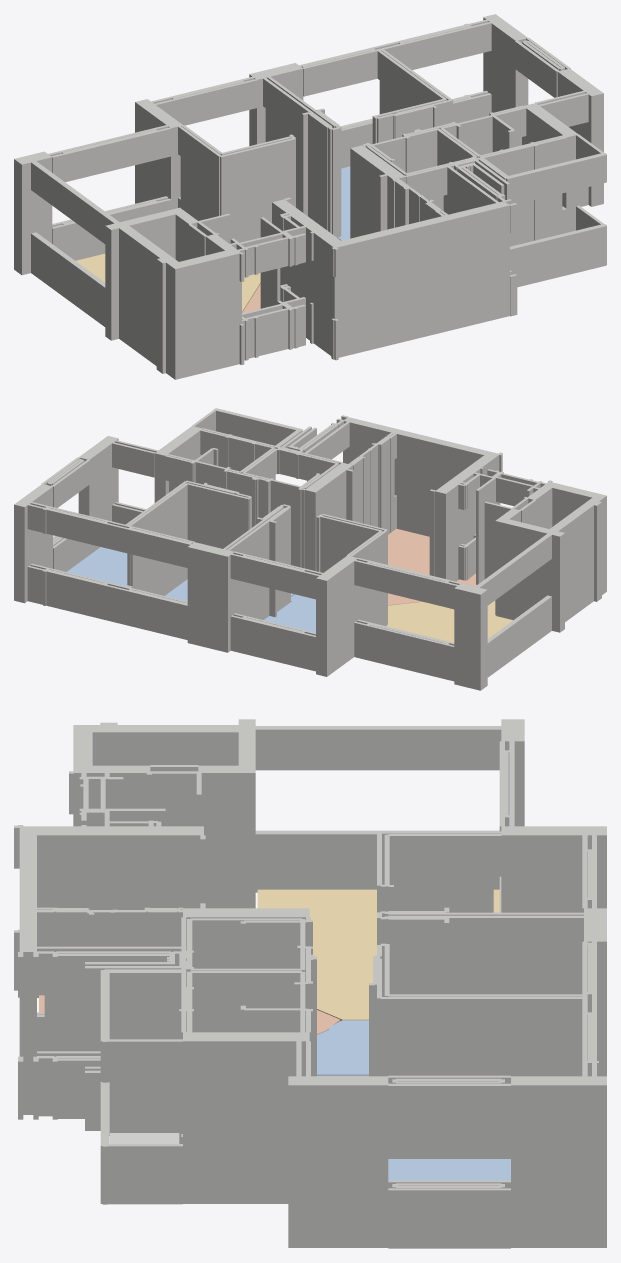
3 views of the same model, one above another, from view 1: azimuth 30°, elevation 25°; view 2: azimuth 150°, elevation 25°; view 3: azimuth 270°, elevation 25° (orthographic). The views are drawn at different scales.
Parts seen in each view (by area): view 1: walls, room:living:8, room:bedroom:7; view 2: walls, room:living:8, room:kitchen:1, room:bedroom:6, room:bedroom:9; view 3: walls, room:living:8, room:bedroom:9, room:bedroom:6, room:ledge:2.
Part boxes in pixels (x1,y1,x2,y2): walls: (14,14,606,379); room:living:8: (75,253,260,312); room:bedroom:7: (338,166,350,240); walls: (14,408,606,690); room:living:8: (386,600,512,642); room:kitchen:1: (388,528,476,605); room:bedroom:6: (67,547,127,586); room:bedroom:9: (264,594,315,632); walls: (14,719,606,1248); room:living:8: (257,889,499,1020); room:bedroom:9: (317,1020,368,1075); room:bedroom:6: (388,1159,510,1180); room:ledge:2: (110,1133,179,1143).
Bounding box in the file's own units: 13.52 × 2.8 × 9.25.
